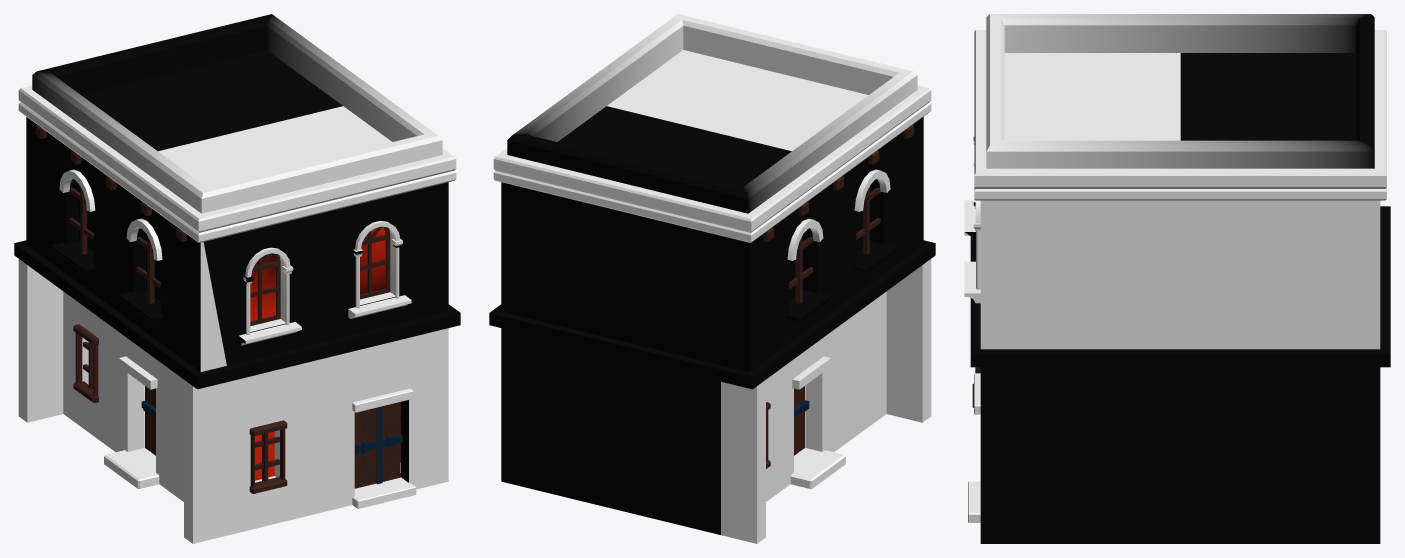
The model's file is civilian_house_37_d.FBX.
The picture shows the model from 3 angles, left to right: view 1: azimuth 30°, elevation 25°; view 2: azimuth 150°, elevation 25°; view 3: azimuth 270°, elevation 25°; orthographic projection. The views are drawn at different scales.
Parts seen in each view (by area): view 1: civilian_house_37_d; view 2: civilian_house_37_d; view 3: civilian_house_37_d.
Boxes of the visible parts, box(x1,y1,x2,y2) form: civilian_house_37_d: box(14, 14, 460, 543); civilian_house_37_d: box(489, 14, 935, 543); civilian_house_37_d: box(964, 14, 1390, 543).
Size of the model in its own units: 621 by 763 by 746.
